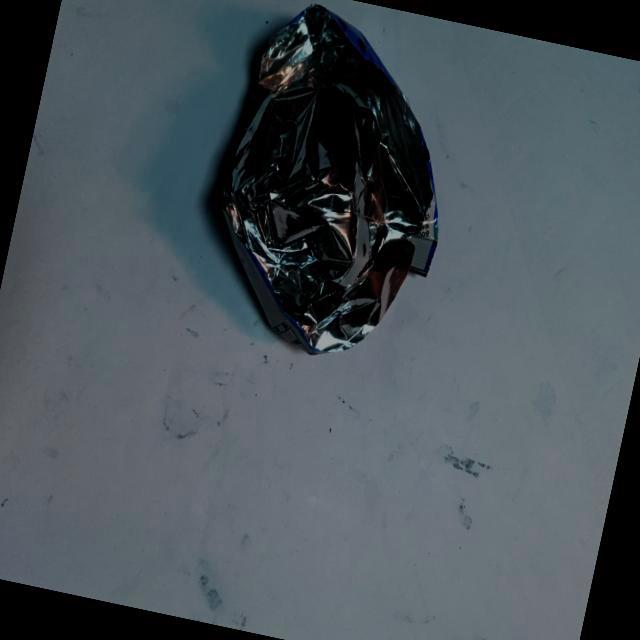plastic: (138, 0, 521, 447)
